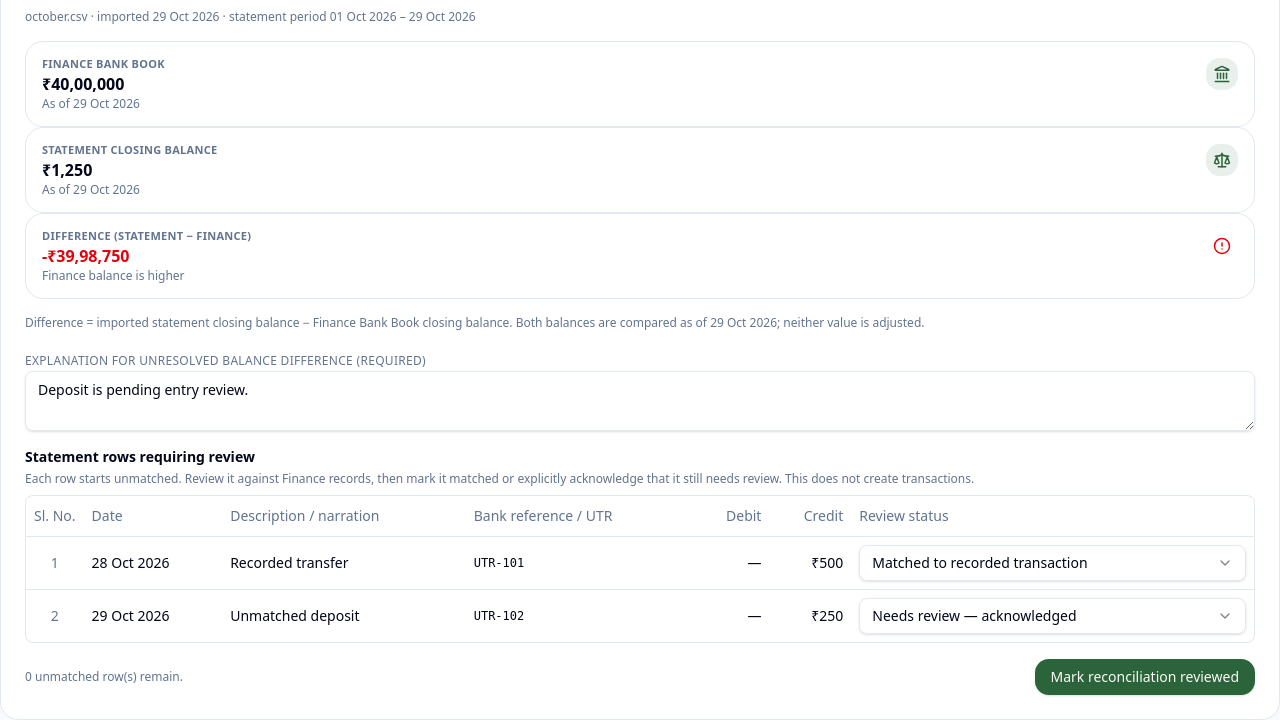
Test case: bank statement reconciliation › completes reconciliation only after reviewed rows and saves the completed state
This screenshot has width=1280, height=720.
(page scrolled)
What coordinates should you click on to do the following:
click the button "Mark reconciliation reviewed"
I would click on:
 (1145, 676)
Its box is [1034,658,1255,694].
(page scrolled)
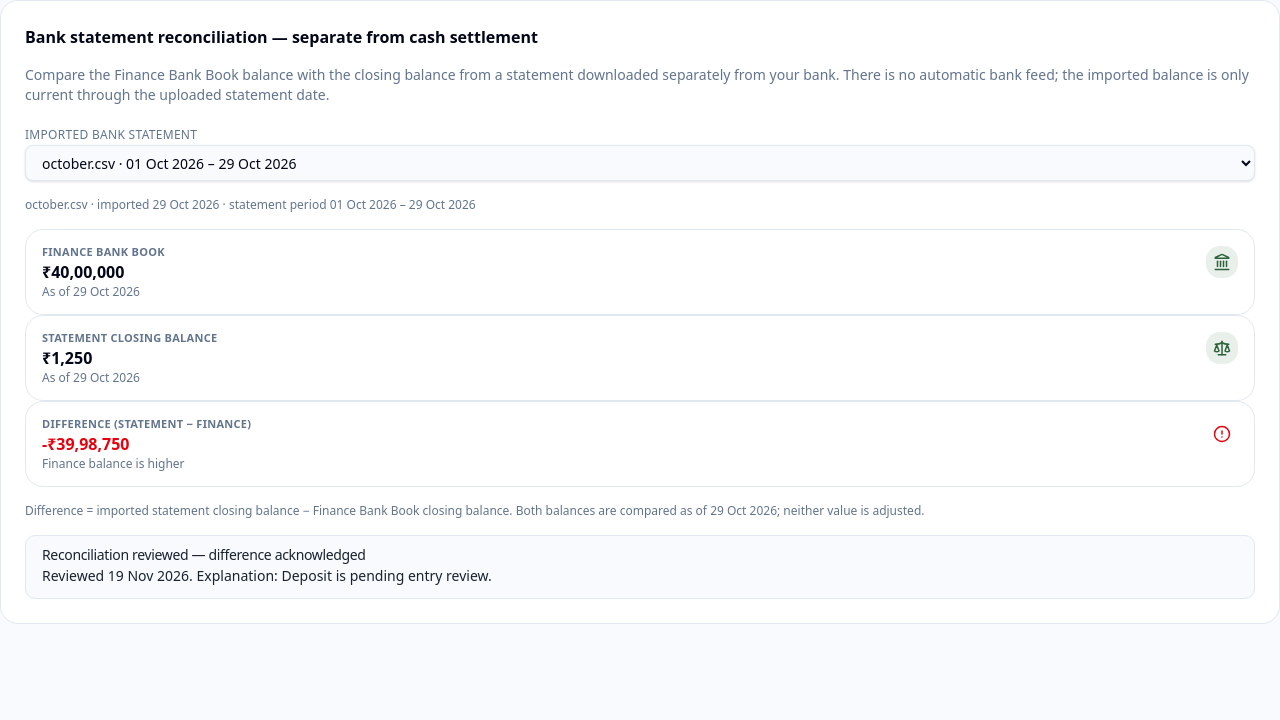
Check: the heading "Reconciliation reviewed — difference acknowledged" is shown, box [42,545,366,564]
Check: the text "Deposit is pending entry review" is shown, box [193,566,492,585]
Check: the button "Mark reconciliation reviewed" is gone
